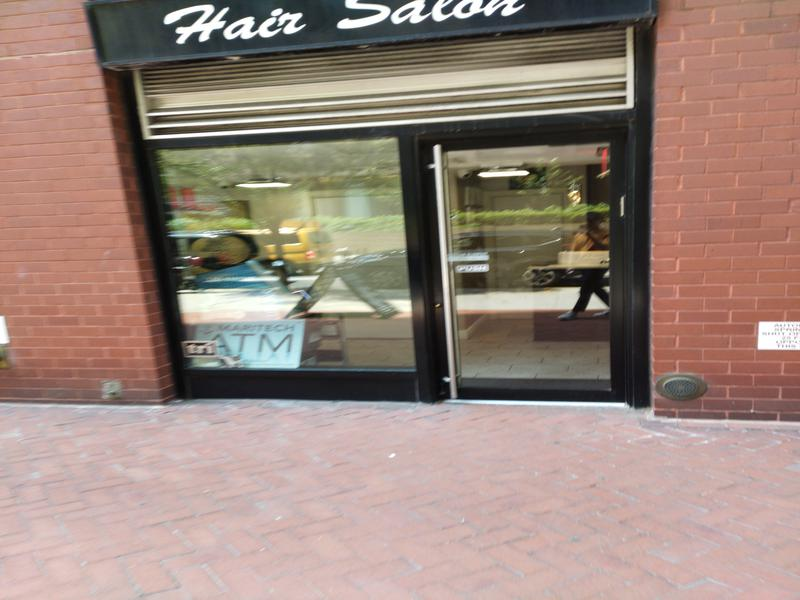door: (414, 119, 662, 405)
